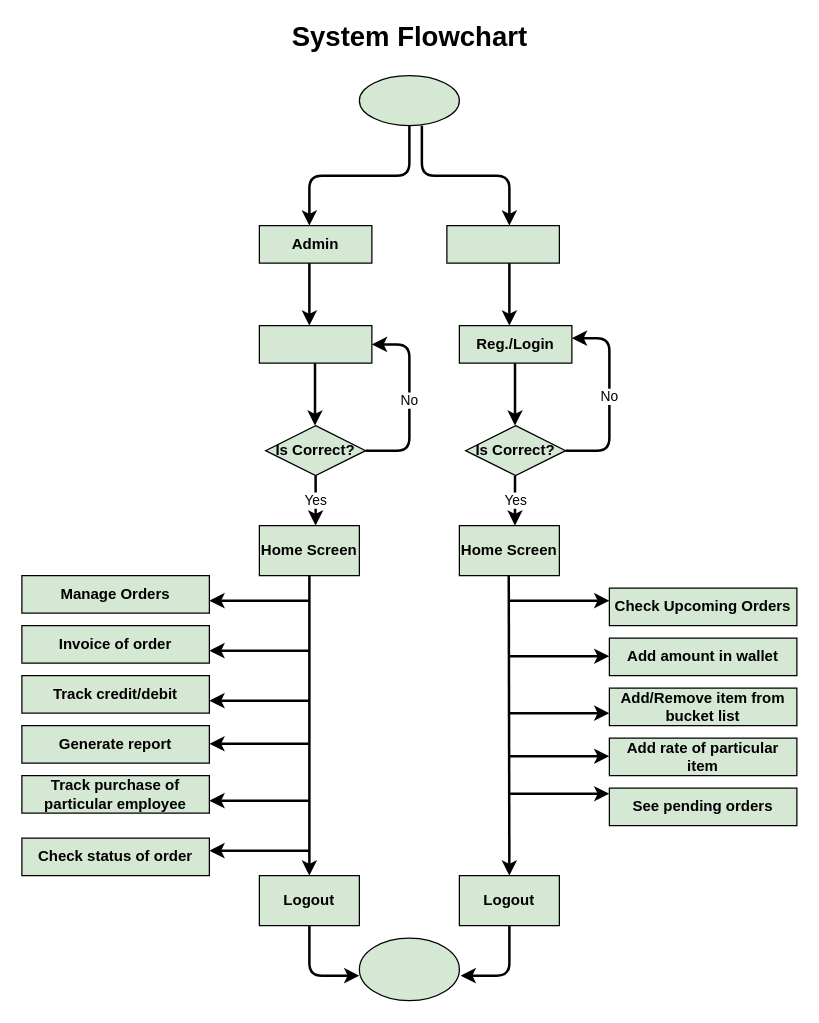
Some shapes in this 819 by 1023 pixel diagram are drawn without their labels. Here are the shapes that lost their labels. From the top down, the centre of each, then its label:
At (408,100): "Start".
At (502,243): "Employee".
At (315,343): "Login".
At (408,969): "End".
